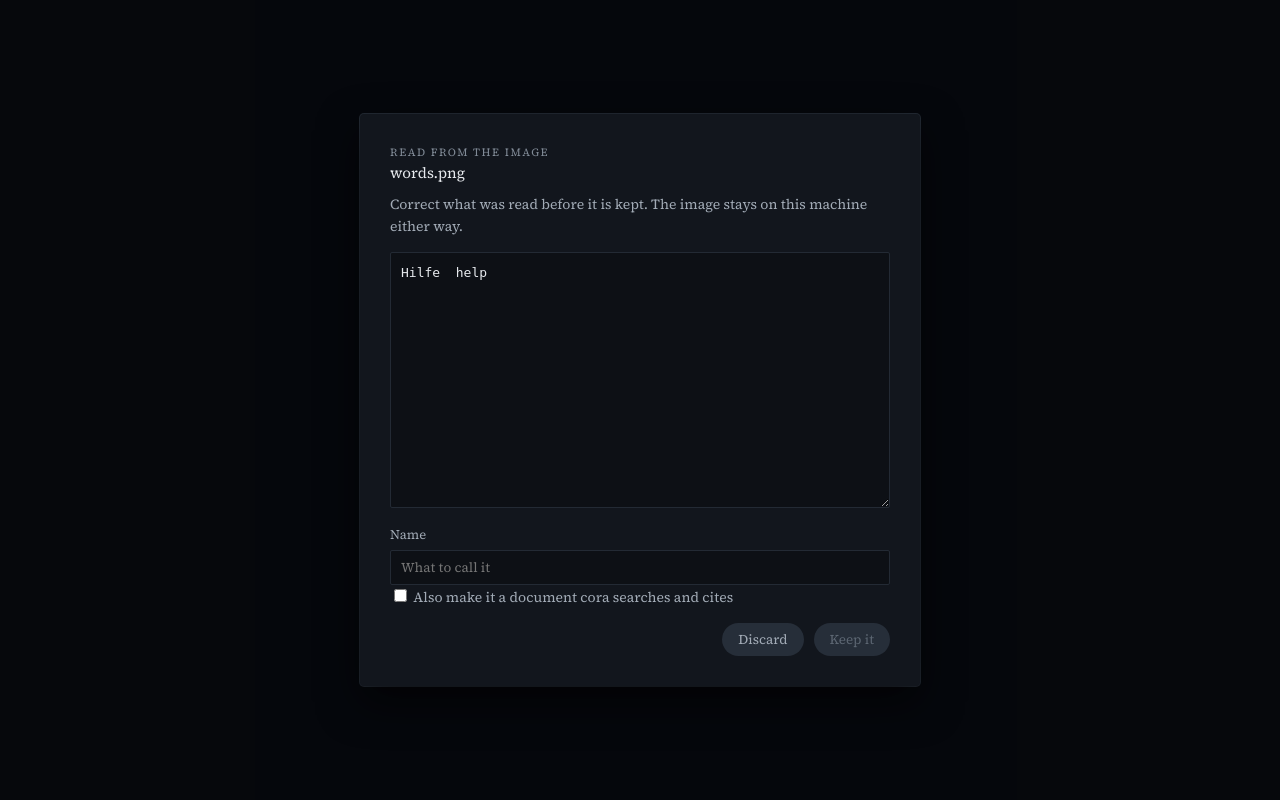
Test case: a refused keep leaves the dialog up with the reading in it
In the field named "What to call it": (640, 567) x1=390 y1=550 x2=890 y2=585, type "words.md"
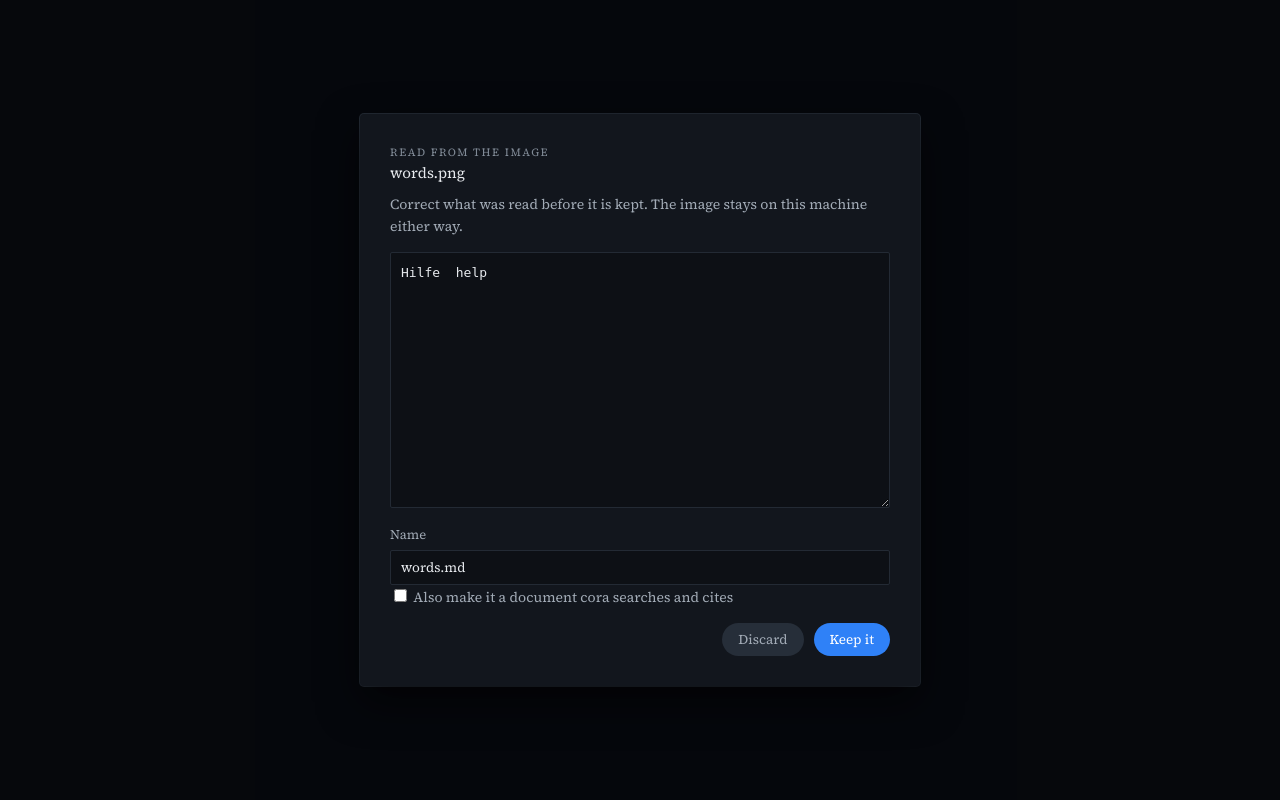
Click the button "Keep it": (852, 640) x1=814 y1=623 x2=890 y2=656
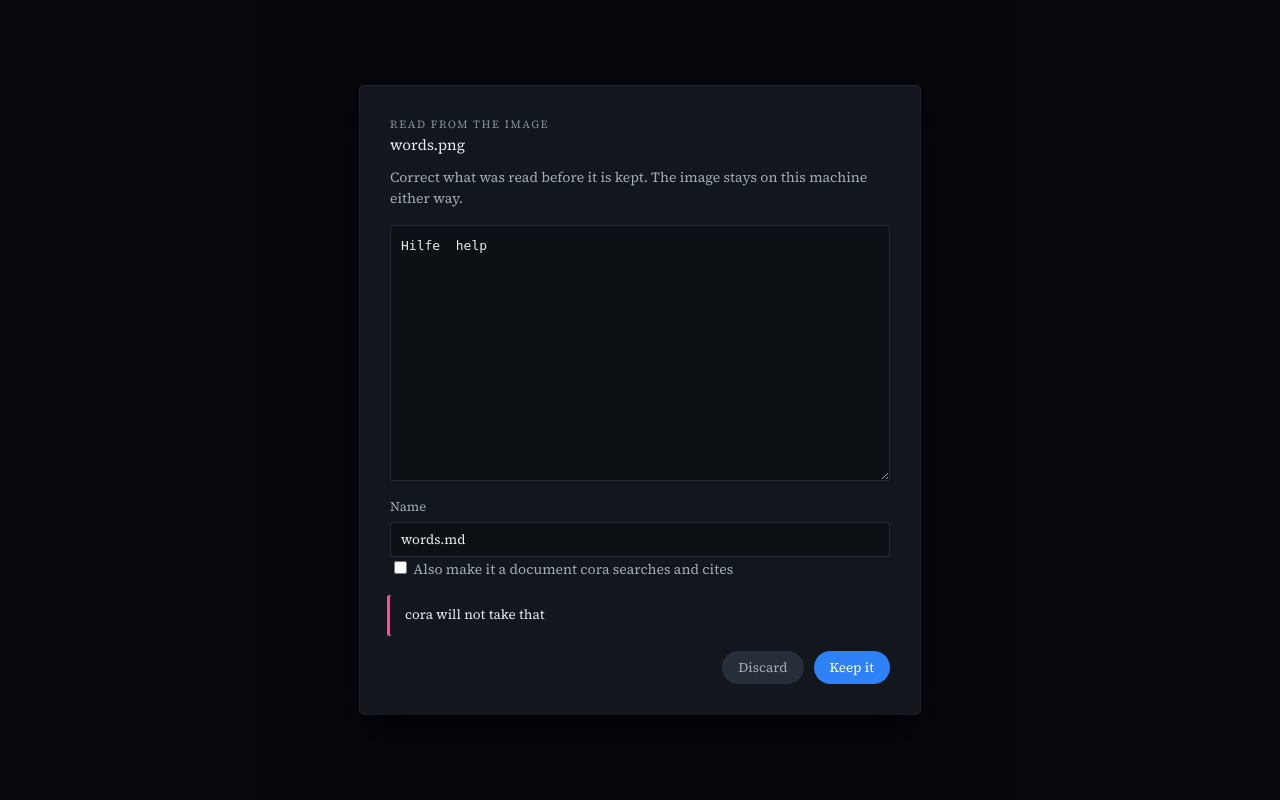
Expected: the text box named "What was read" holds "Hilfe  help", x1=390 y1=225 x2=890 y2=481
Now the text "cora will not take that" is shown, box x1=390 y1=595 x2=890 y2=636
